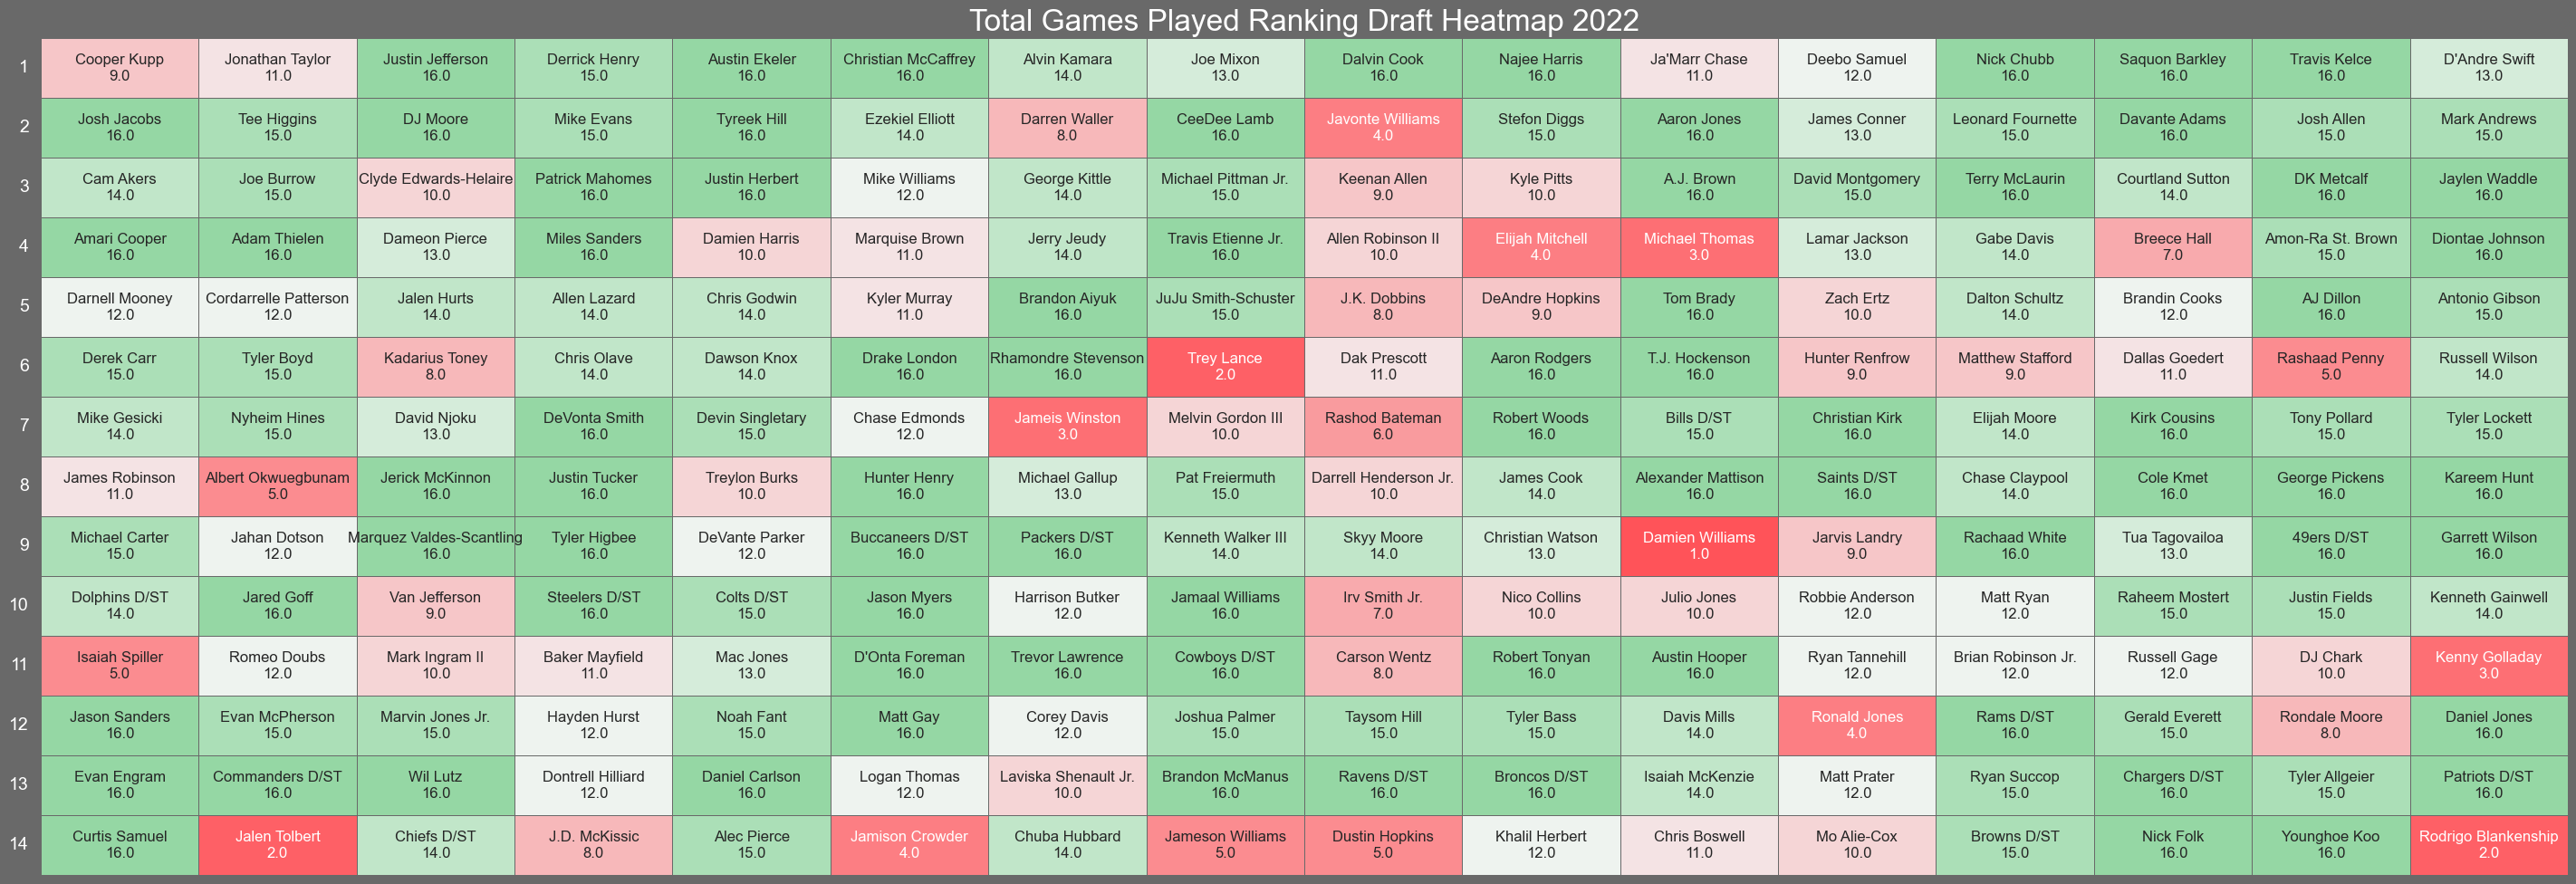

The page's visual inventory and layout, read from the dashboard file:
{"tool":"powerbi","page":{"name":"Page 3","canvas":[1280,720],"ordinal":2},"visuals":[{"type":"pivotTable","fields":{"Rows":["Query1.round","Query1.playername"],"Columns":["Query1.pick"],"Values":["Sum(Query1.total)"]},"box":[0,0,1280,720],"z":1}]}

Visuals, with their boxes on the page's 1280x720 design canvas (x1, y1, x2, y2). These are canvas units, not pixel positions in the 2576x884 screenshot, which may show the page scaled, cropped or inside an application window:
pivotTable - Query1.round x Query1.playername: Rect(0, 0, 1280, 720)
